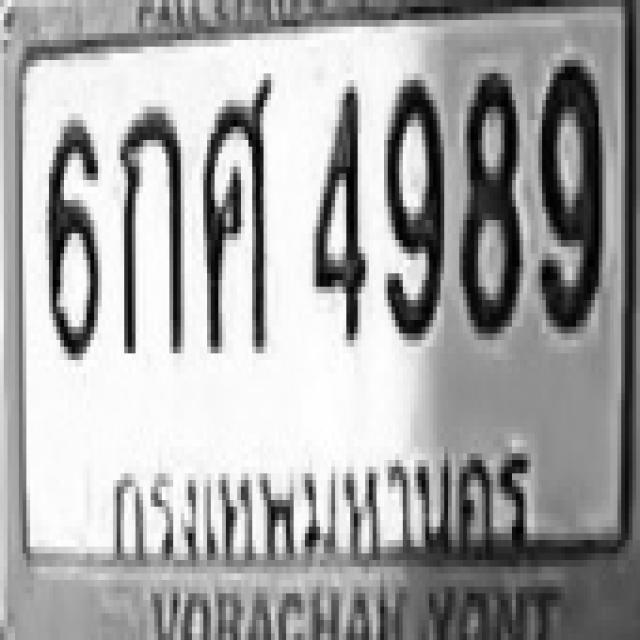10GorGai: (116, 100, 180, 353)
4: (309, 80, 365, 340)
47SorSala: (200, 70, 271, 350)
6: (45, 113, 102, 360)
8: (460, 63, 520, 330)
9: (538, 53, 598, 327), (380, 74, 440, 334)
Bangkok: (96, 447, 546, 577)
